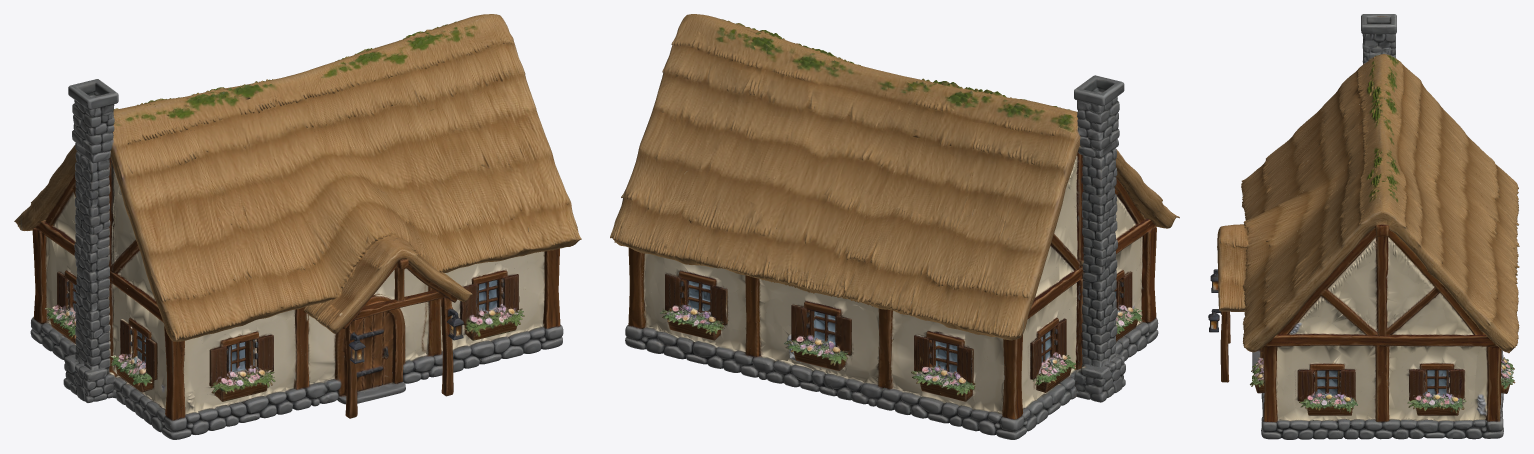
File: OakHillHouse_300k.glb
3 views of the same model, side by side, from view 1: azimuth 30°, elevation 25°; view 2: azimuth 150°, elevation 25°; view 3: azimuth 270°, elevation 25° (orthographic). The views are drawn at different scales.
Parts seen in each view (by area): view 1: Mesh_0; view 2: Mesh_0; view 3: Mesh_0.
Part boxes in pixels (x1,y1,x2,y2): Mesh_0: (14,14,581,439); Mesh_0: (610,14,1179,439); Mesh_0: (1208,14,1519,439).
Size of the model in its own units: 1.9 by 1.29 by 1.41.
1 material, 1 textured.
